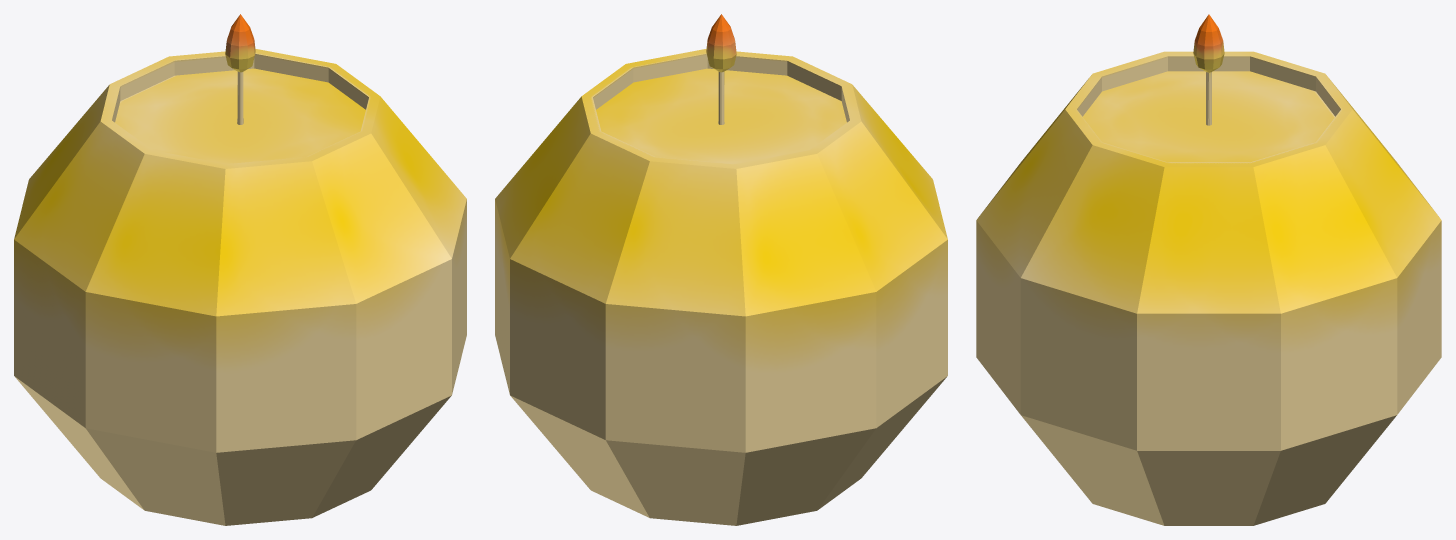
File: Candle6_Model.fbx
3 renders of one model, left to right at view 1: azimuth 30°, elevation 25°; view 2: azimuth 150°, elevation 25°; view 3: azimuth 270°, elevation 25°, orthographic.
Visible parts, largest first — view 1: Candle6; view 2: Candle6; view 3: Candle6.
Boxes of the visible parts, bbox=[...] form: Candle6: bbox=[14, 14, 466, 525]; Candle6: bbox=[495, 14, 947, 525]; Candle6: bbox=[976, 14, 1441, 525].
Bounding box in the file's own units: 9.95 × 11.26 × 10.46.
